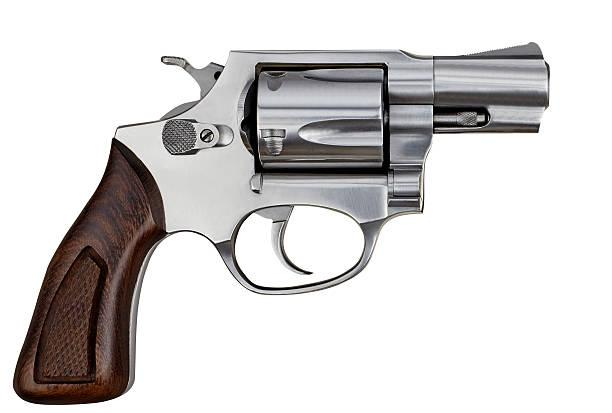weapon: (12, 38, 553, 406)
